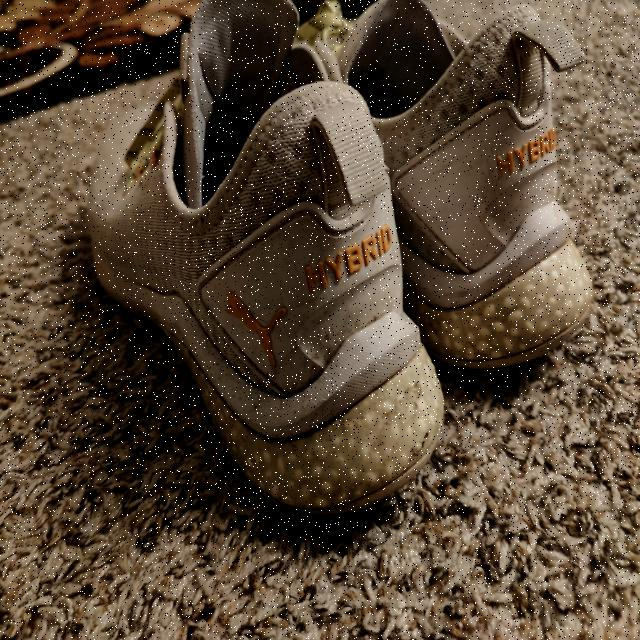white shoes: (150, 116, 546, 418)
